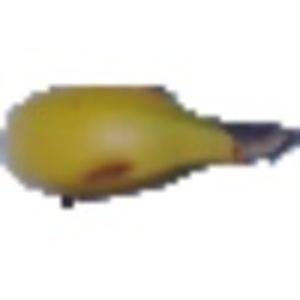banana: (1, 75, 298, 202)
